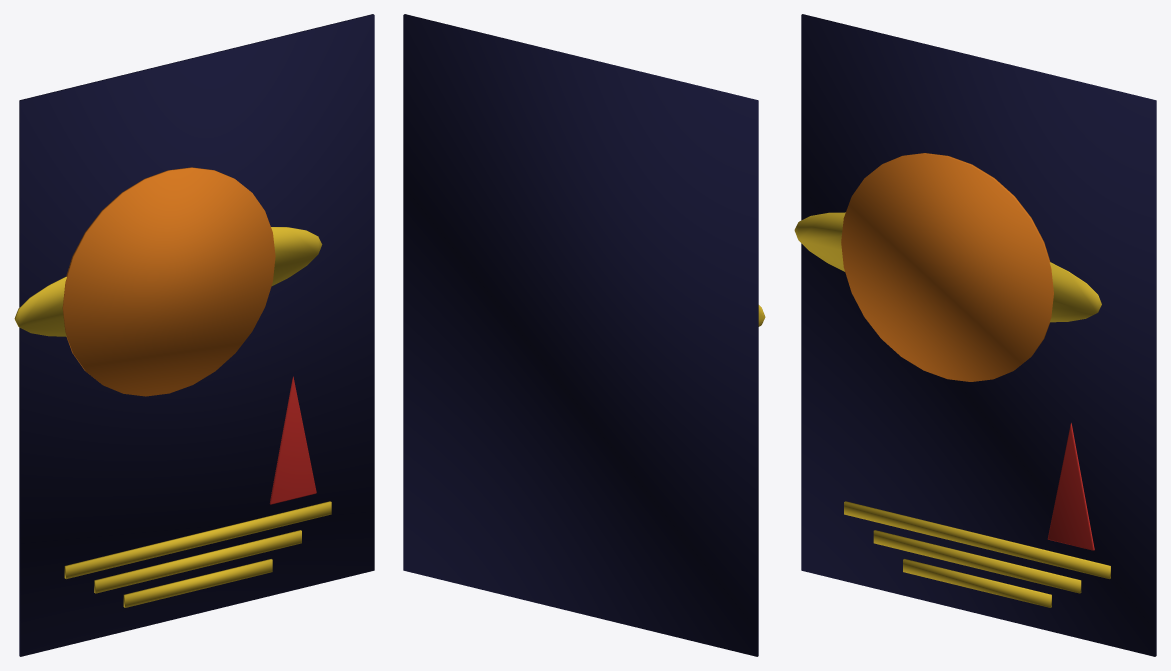
File: poster.glb
3 renders of one model, left to right at view 1: azimuth 30°, elevation 25°; view 2: azimuth 150°, elevation 25°; view 3: azimuth 330°, elevation 25°, orthographic.
Visible parts, largest first — view 1: poster; view 2: poster; view 3: poster.
Boxes of the visible parts, x1,y1,x2,y2 form: poster: [14, 14, 374, 656]; poster: [403, 14, 765, 656]; poster: [794, 14, 1156, 656].
Bounding box in the file's own units: 0.61 × 0.9 × 0.01.
